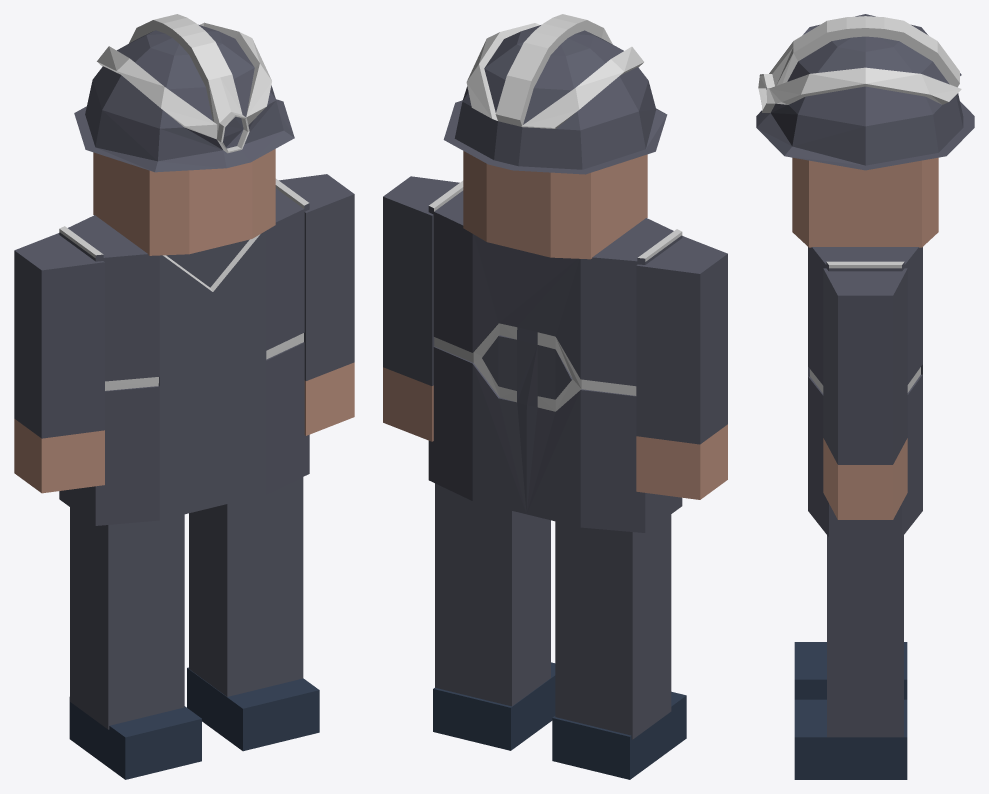
The model's file is white guy grey 3.fbx.
The picture shows the model from 3 angles, left to right: view 1: azimuth 30°, elevation 25°; view 2: azimuth 150°, elevation 25°; view 3: azimuth 270°, elevation 25°; orthographic projection.
Parts seen in each view (by area): view 1: polySurface145; view 2: polySurface145; view 3: polySurface145.
Part boxes in pixels (x1=…): polySurface145: x1=14, y1=14, x2=354, y2=779; polySurface145: x1=383, y1=14, x2=727, y2=779; polySurface145: x1=756, y1=14, x2=974, y2=779.
Bounding box in the file's own units: 88.75 × 191 × 53.3.
